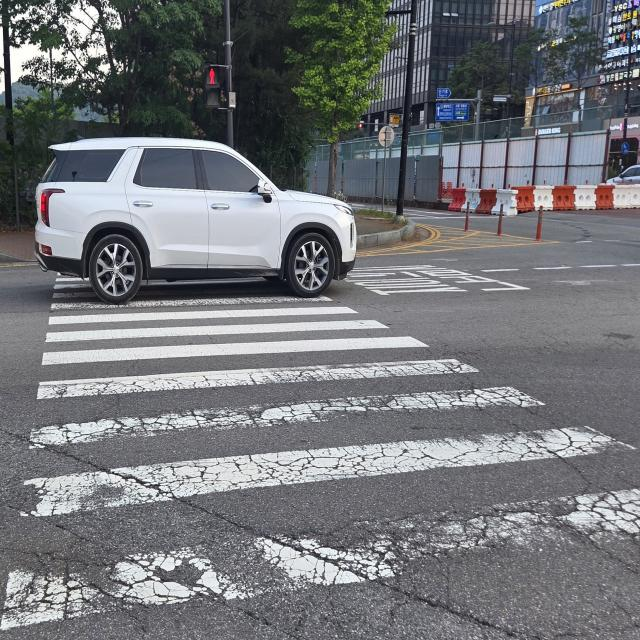car: (19, 109, 377, 319)
